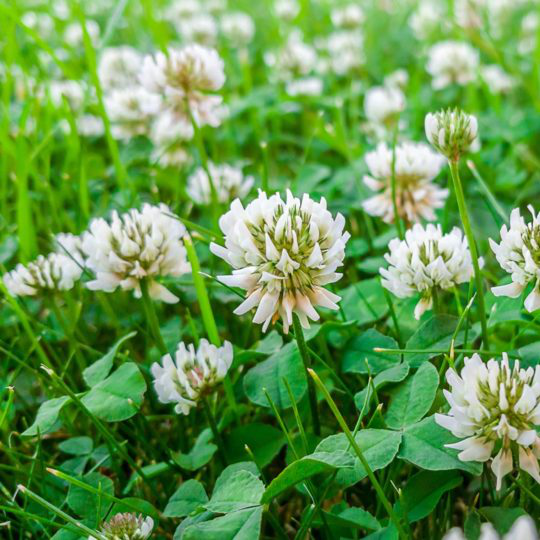clover: (1, 1, 540, 538)
